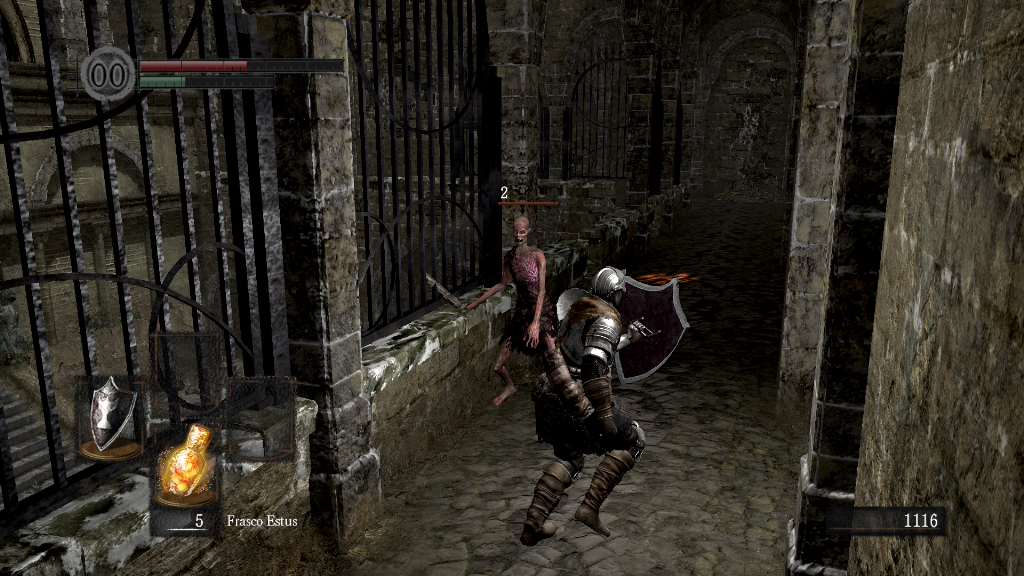health: (138, 58, 343, 71)
hollow: (464, 213, 561, 406)
humanity: (80, 45, 136, 102)
player: (516, 266, 691, 545)
souls: (825, 506, 945, 536)
stamina: (138, 74, 274, 88)
